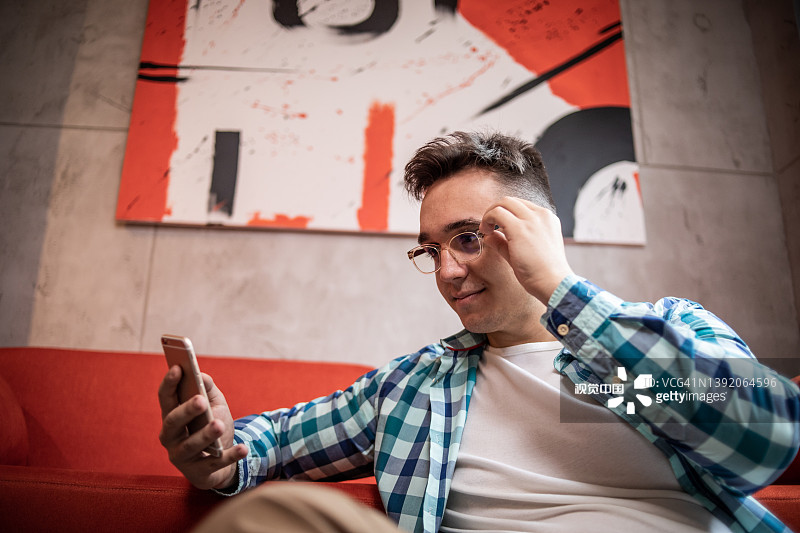reading: (135, 316, 273, 504)
